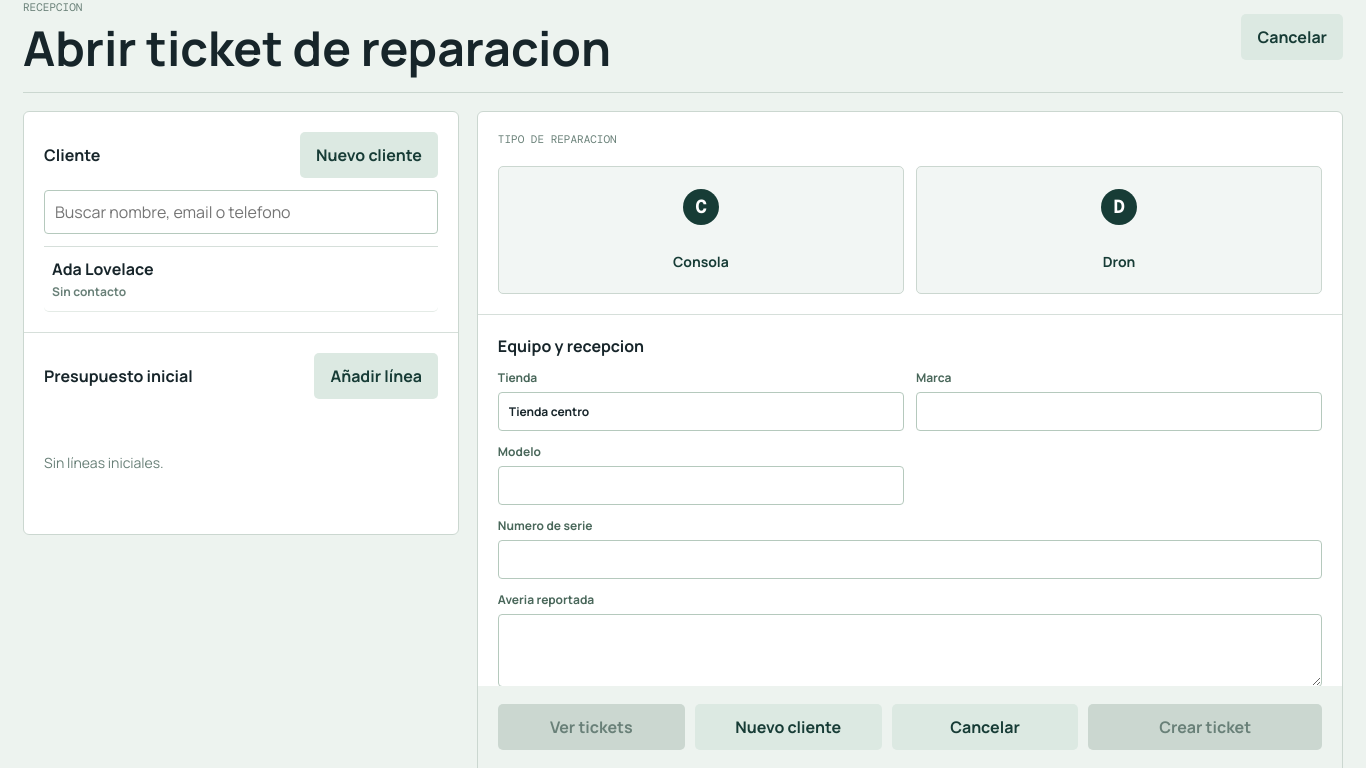
Scenario: alta de reparacion › abre el panel de selección aunque el tipo no tenga marcas configuradas
Click the button with class "repair-type-card" showing "D Dron": (1119, 207) left=916, top=166, right=1322, bottom=294
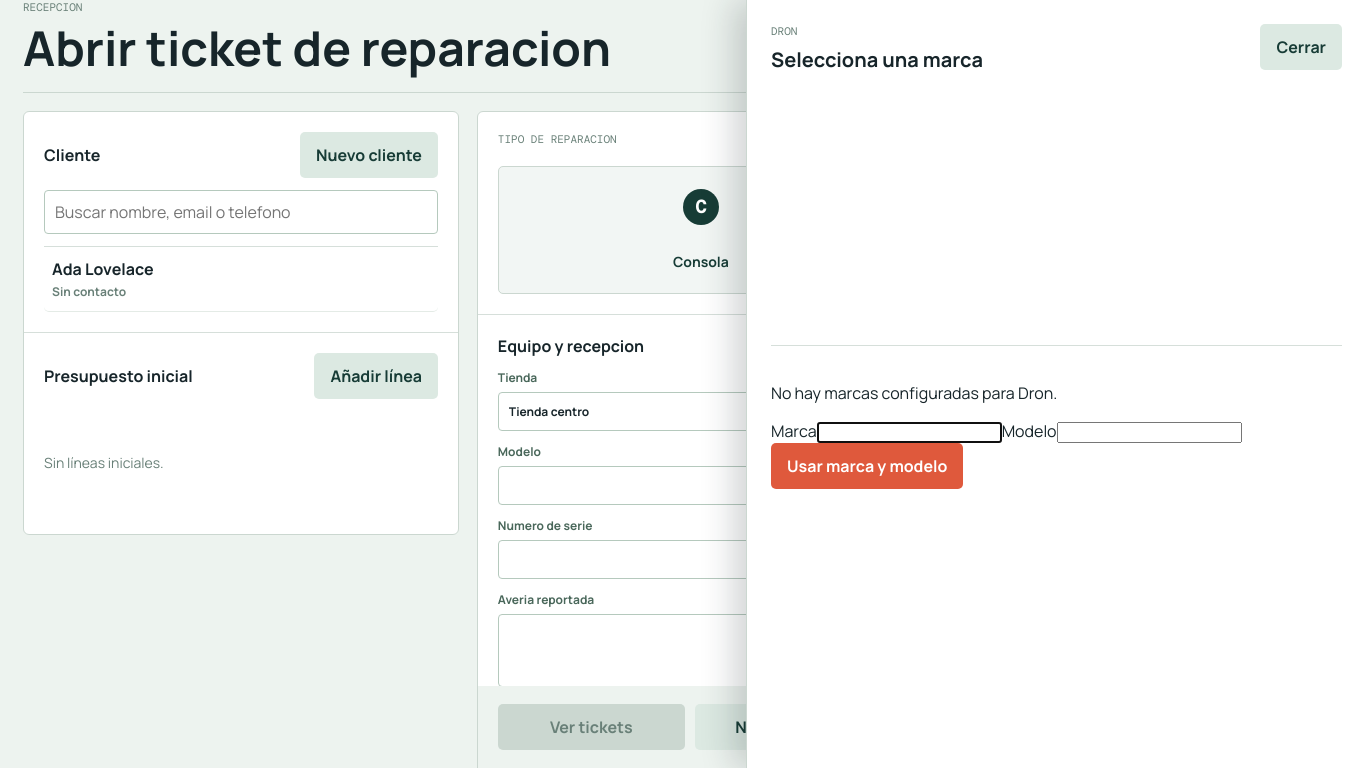
Now the dialog with class "catalog-drawer" shows "No hay marcas configuradas para Dron.", box left=771, top=382, right=1057, bottom=404
Now the dialog with class "catalog-drawer" shows "Usar marca y modelo", box left=771, top=442, right=964, bottom=488
